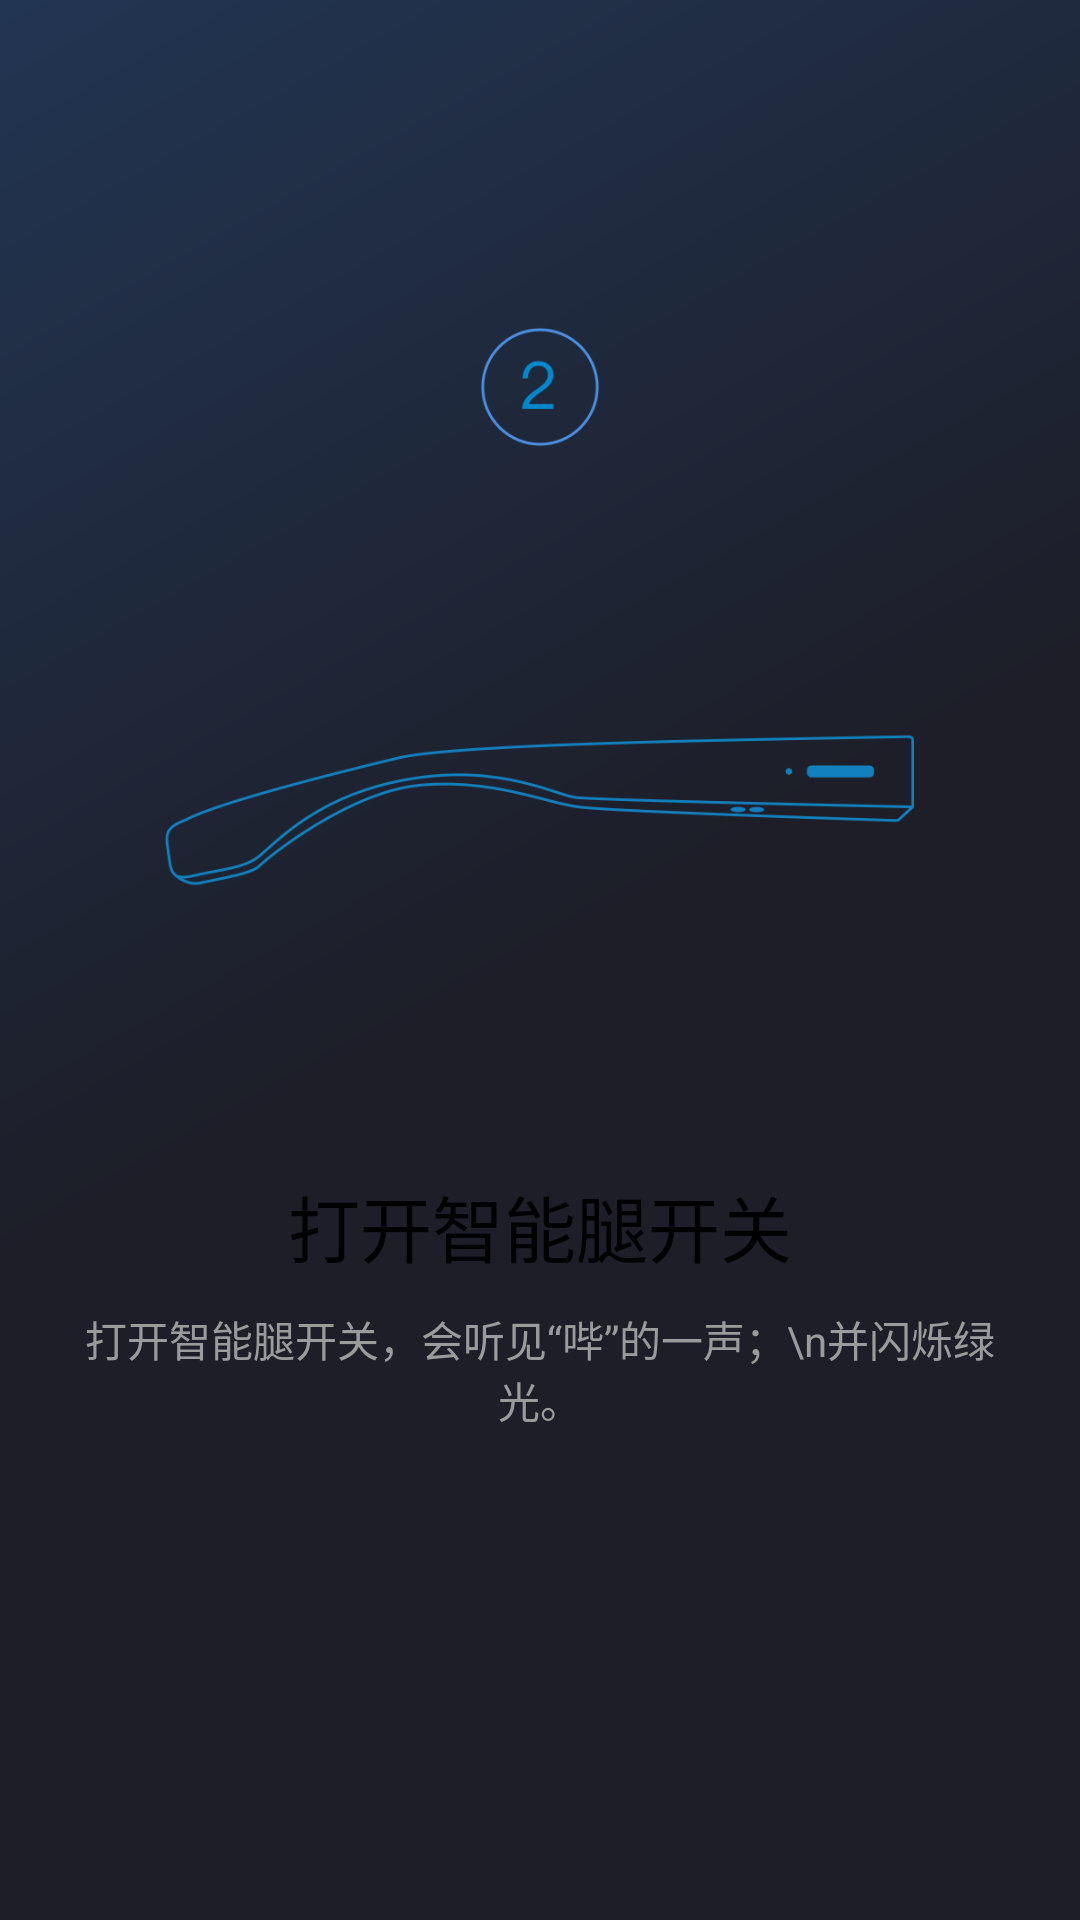

Icons on this 1080px×1920px Android screen, each with its box as (x1=x1, y1=y1, x2=x2, y2=y2):
guide num: (x1=481, y1=328, x2=599, y2=446)
